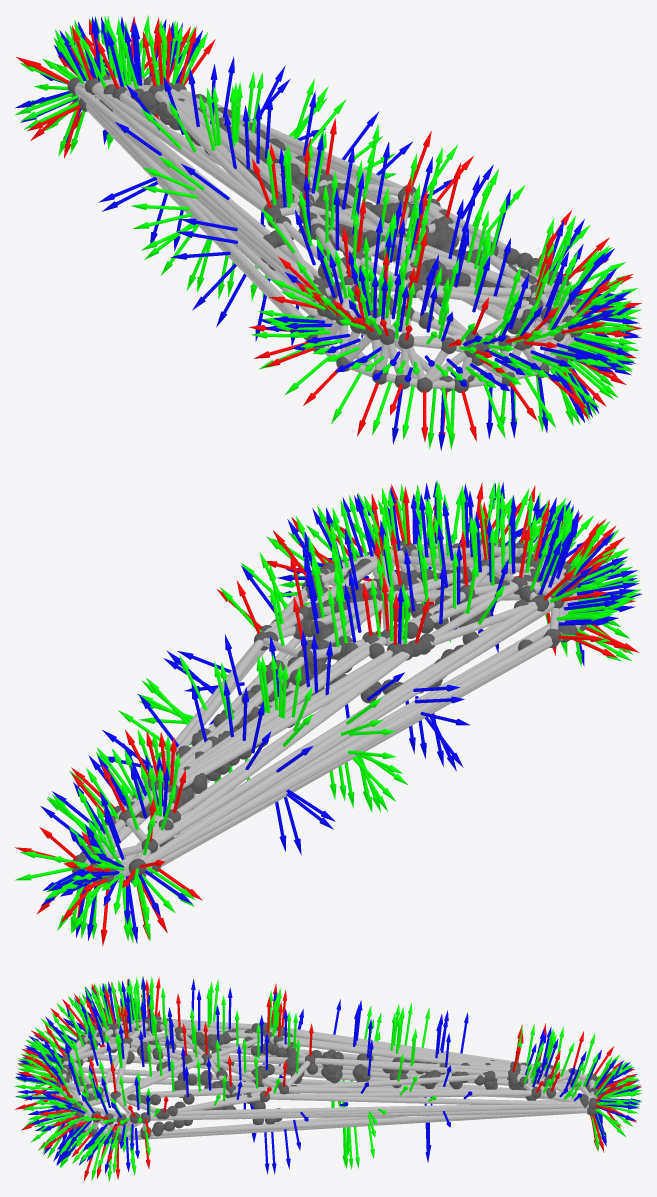
The model's file is author2_guitar.gltf.
3 views of the same model, one above another, from view 1: azimuth 30°, elevation 25°; view 2: azimuth 150°, elevation 25°; view 3: azimuth 270°, elevation 25° (orthographic). The views are drawn at different scales.
Bounding box in the file's own units: 0.4852 × 0.2655 × 1.09.
